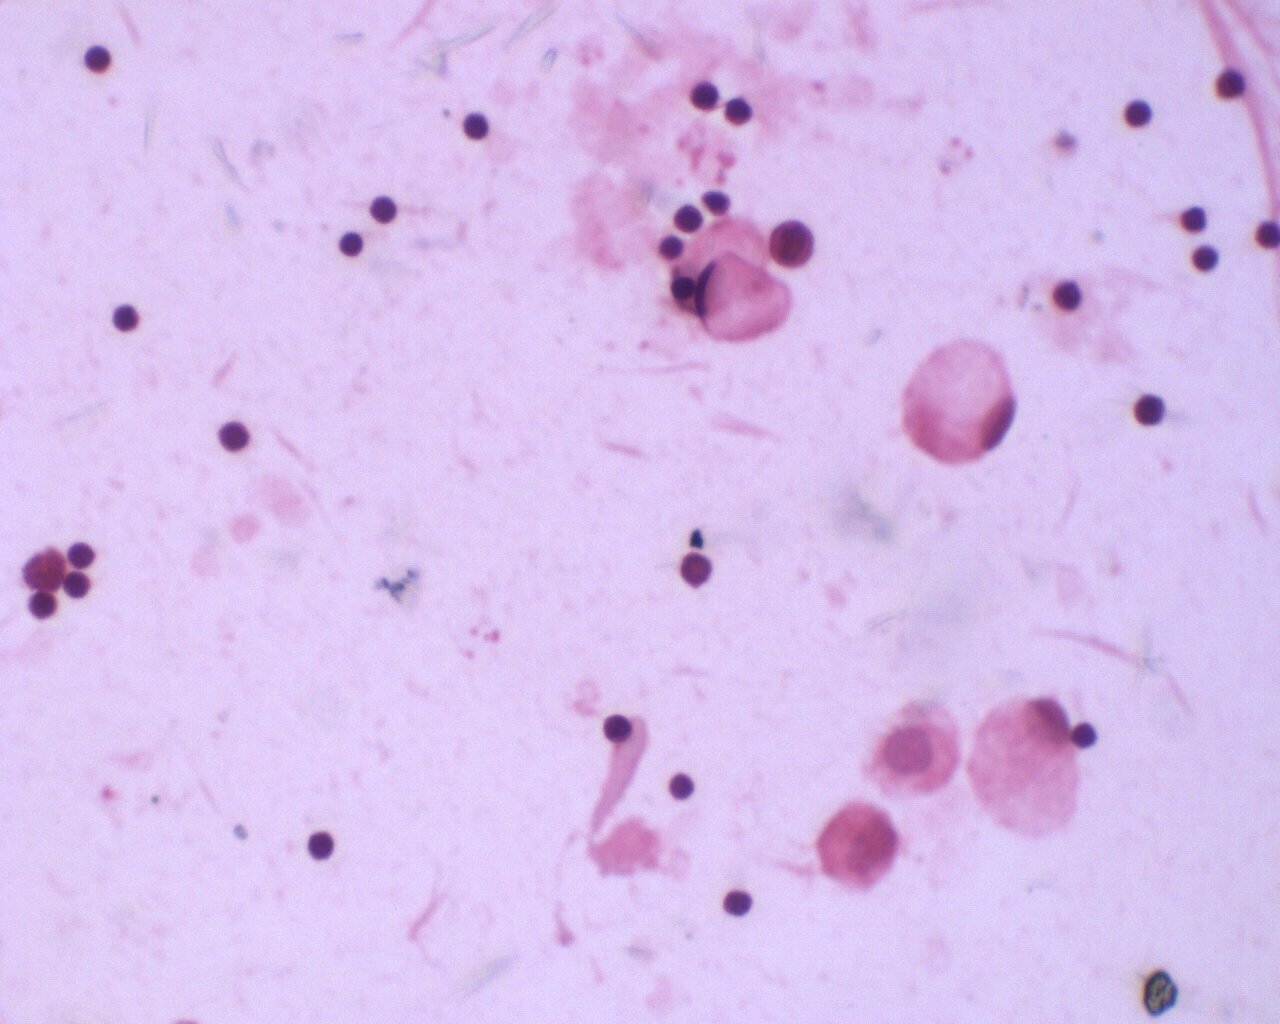ab: (764, 218, 816, 270)
histo: (965, 691, 1081, 837), (895, 332, 1020, 467), (698, 252, 796, 349)
lymph: (1128, 389, 1168, 432), (301, 827, 342, 867), (109, 299, 146, 343), (1179, 200, 1220, 237), (80, 42, 119, 80), (1187, 241, 1225, 281), (668, 200, 709, 235), (597, 711, 637, 745), (719, 885, 757, 920), (1125, 95, 1161, 131), (1071, 720, 1108, 753), (462, 108, 494, 145), (666, 772, 705, 802), (338, 229, 366, 261)
